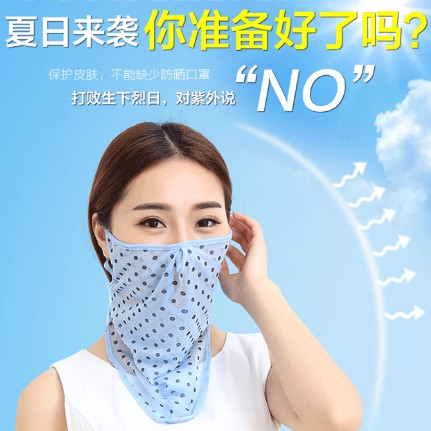face_mask: (108, 160, 232, 317)
